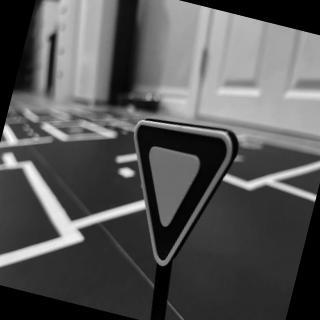sign_yield: (104, 110, 243, 281)
